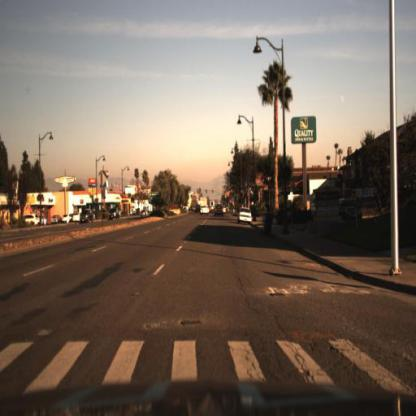car: (337, 194, 368, 226), (235, 206, 256, 230), (19, 211, 41, 232), (48, 211, 64, 227), (79, 210, 93, 226), (70, 209, 83, 225), (199, 202, 212, 218), (215, 202, 226, 219), (62, 210, 73, 224), (69, 214, 81, 226)
